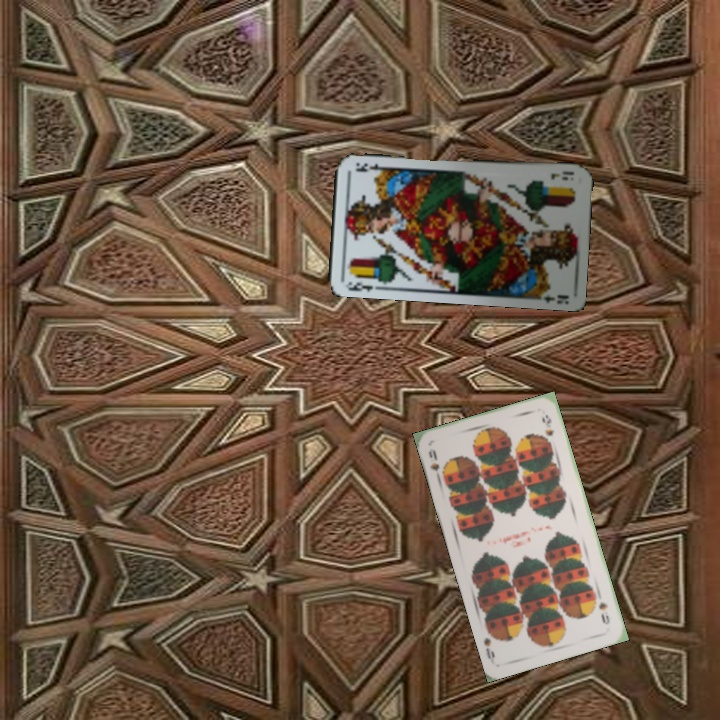EK: (341, 278, 375, 294), (547, 167, 577, 183)
S9: (424, 446, 443, 484), (594, 598, 612, 627)
